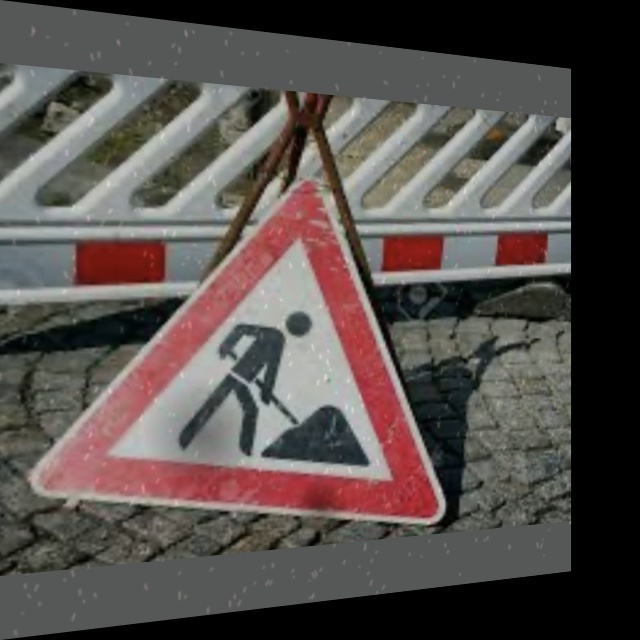Men_at_Work: (91, 178, 448, 555)
